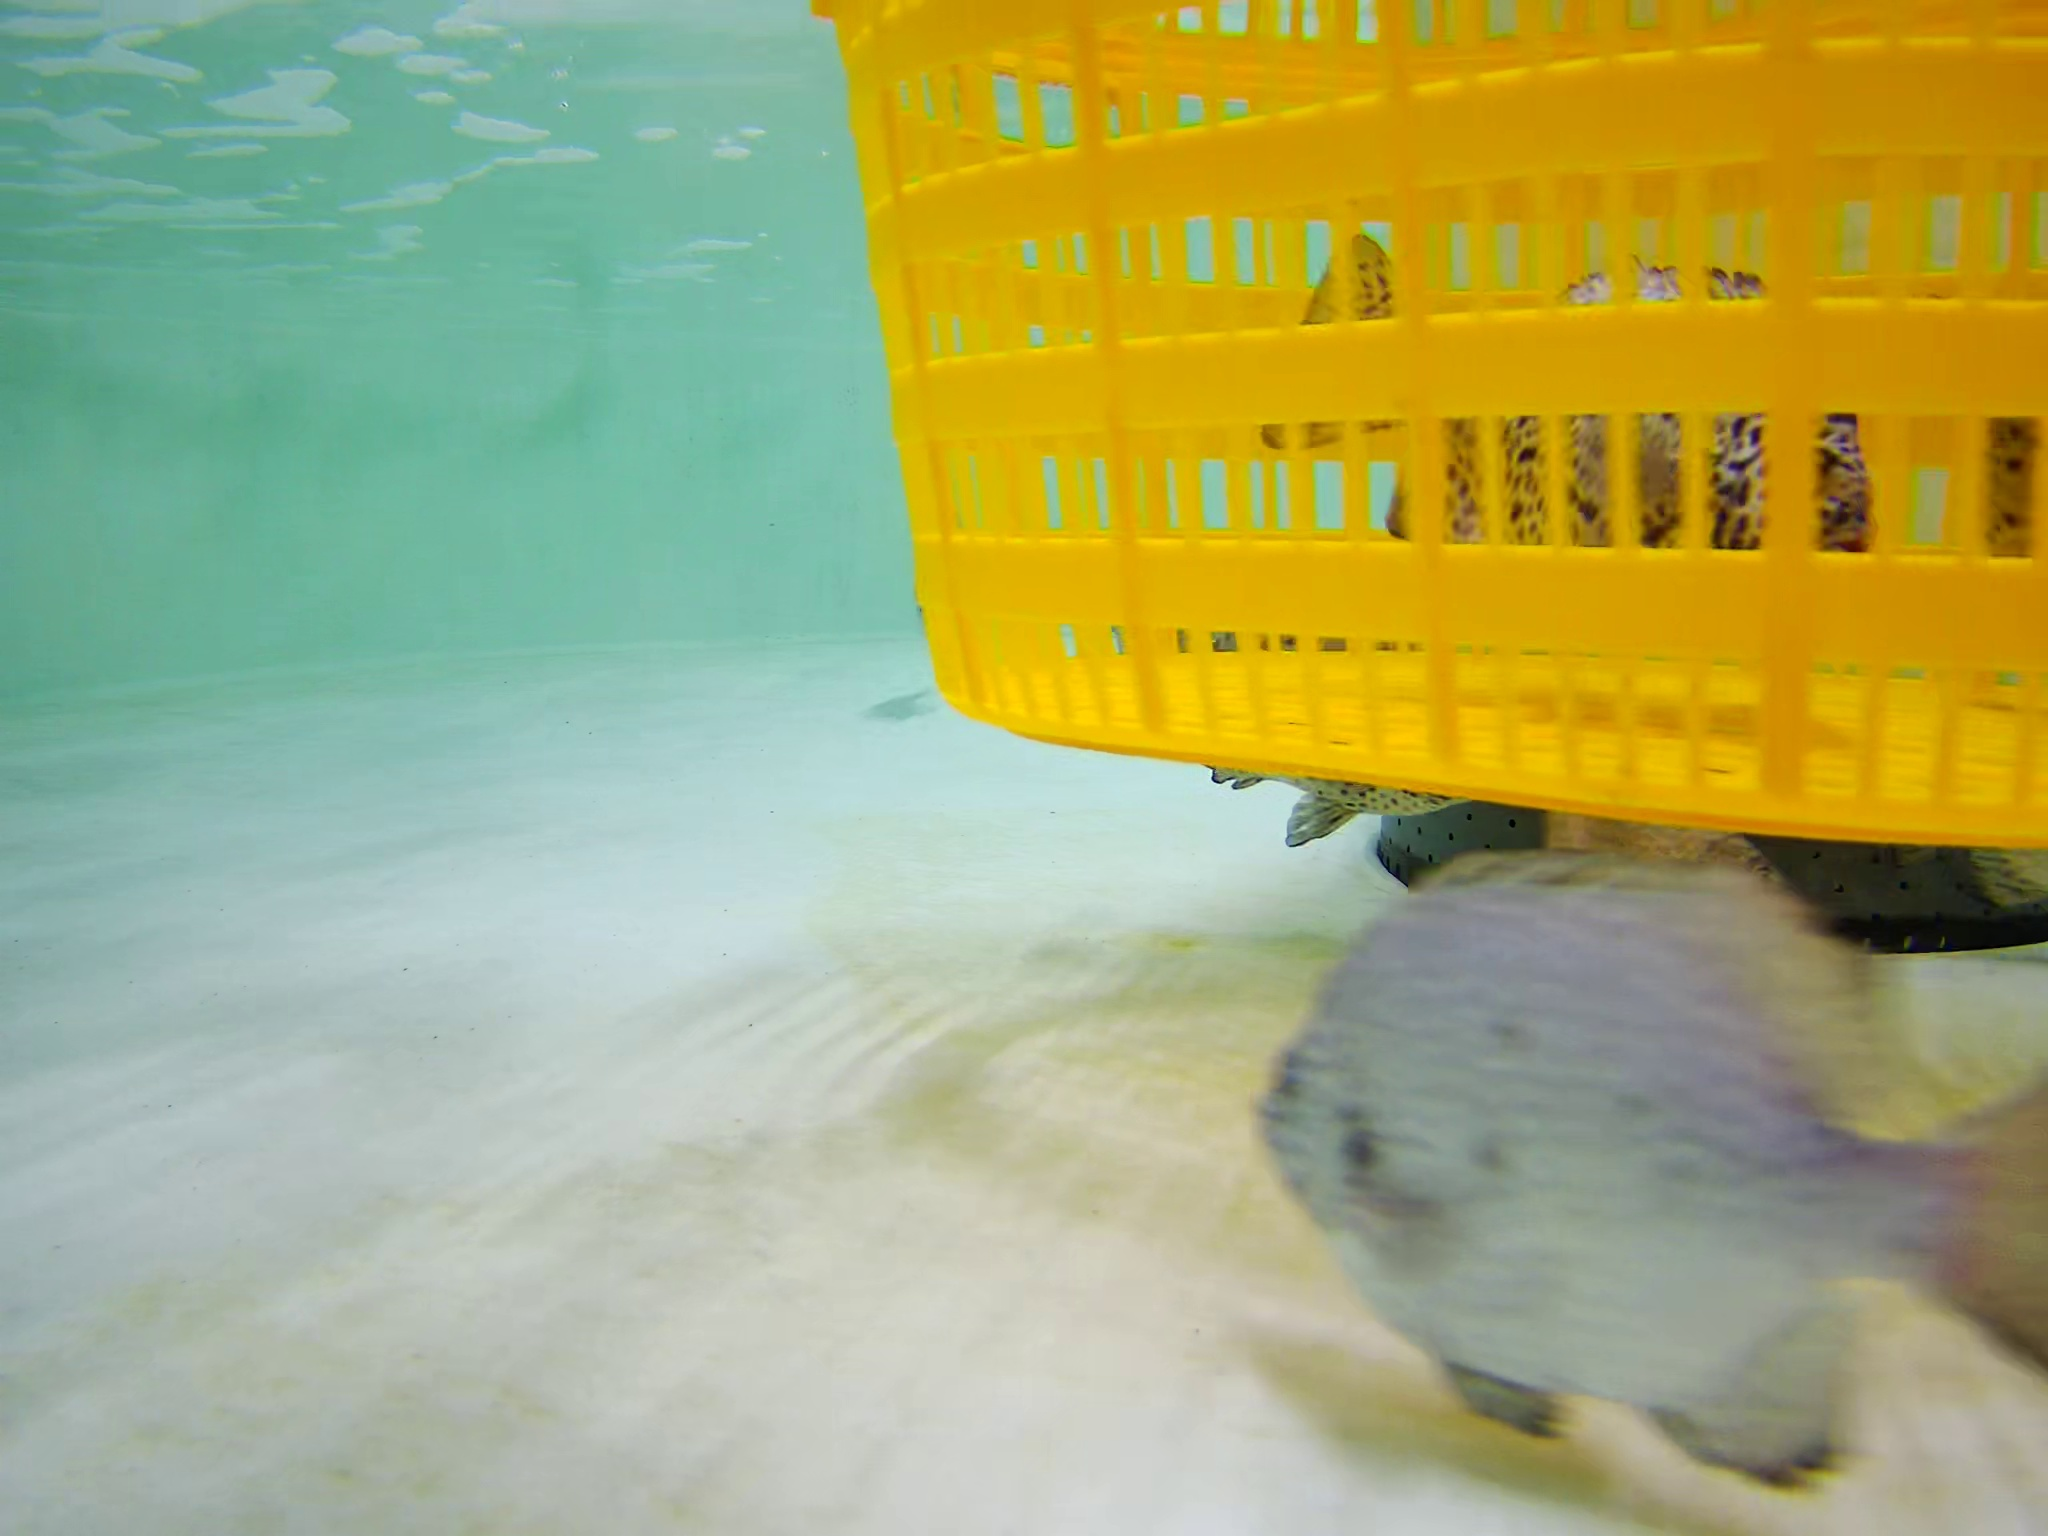fish: (1250, 818, 1971, 1521), (1421, 841, 2048, 1373), (1243, 215, 1879, 632), (1169, 611, 1522, 845), (1929, 361, 2048, 737)
